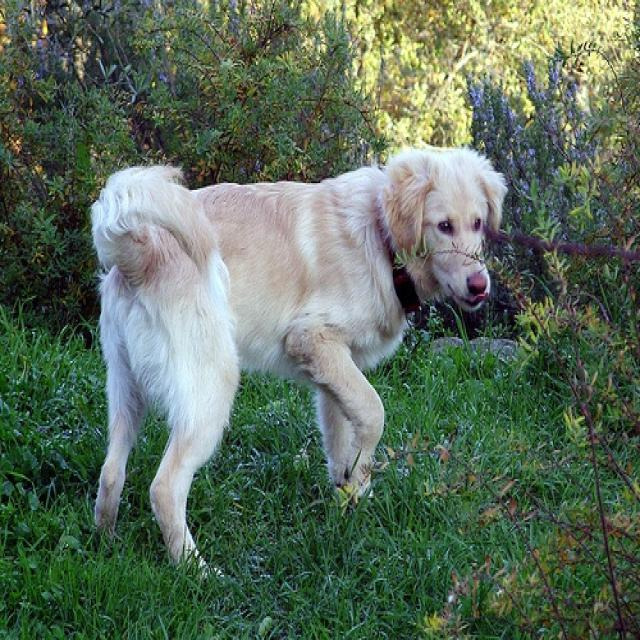dog: (86, 146, 510, 576)
